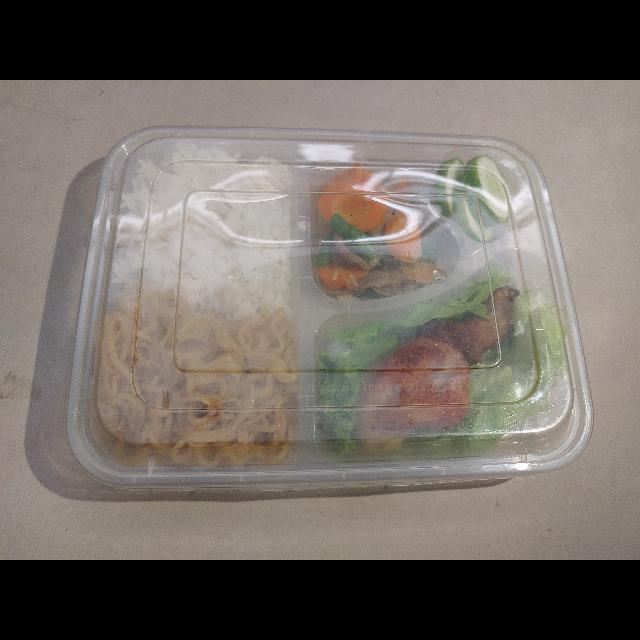bento: (73, 126, 590, 479)
